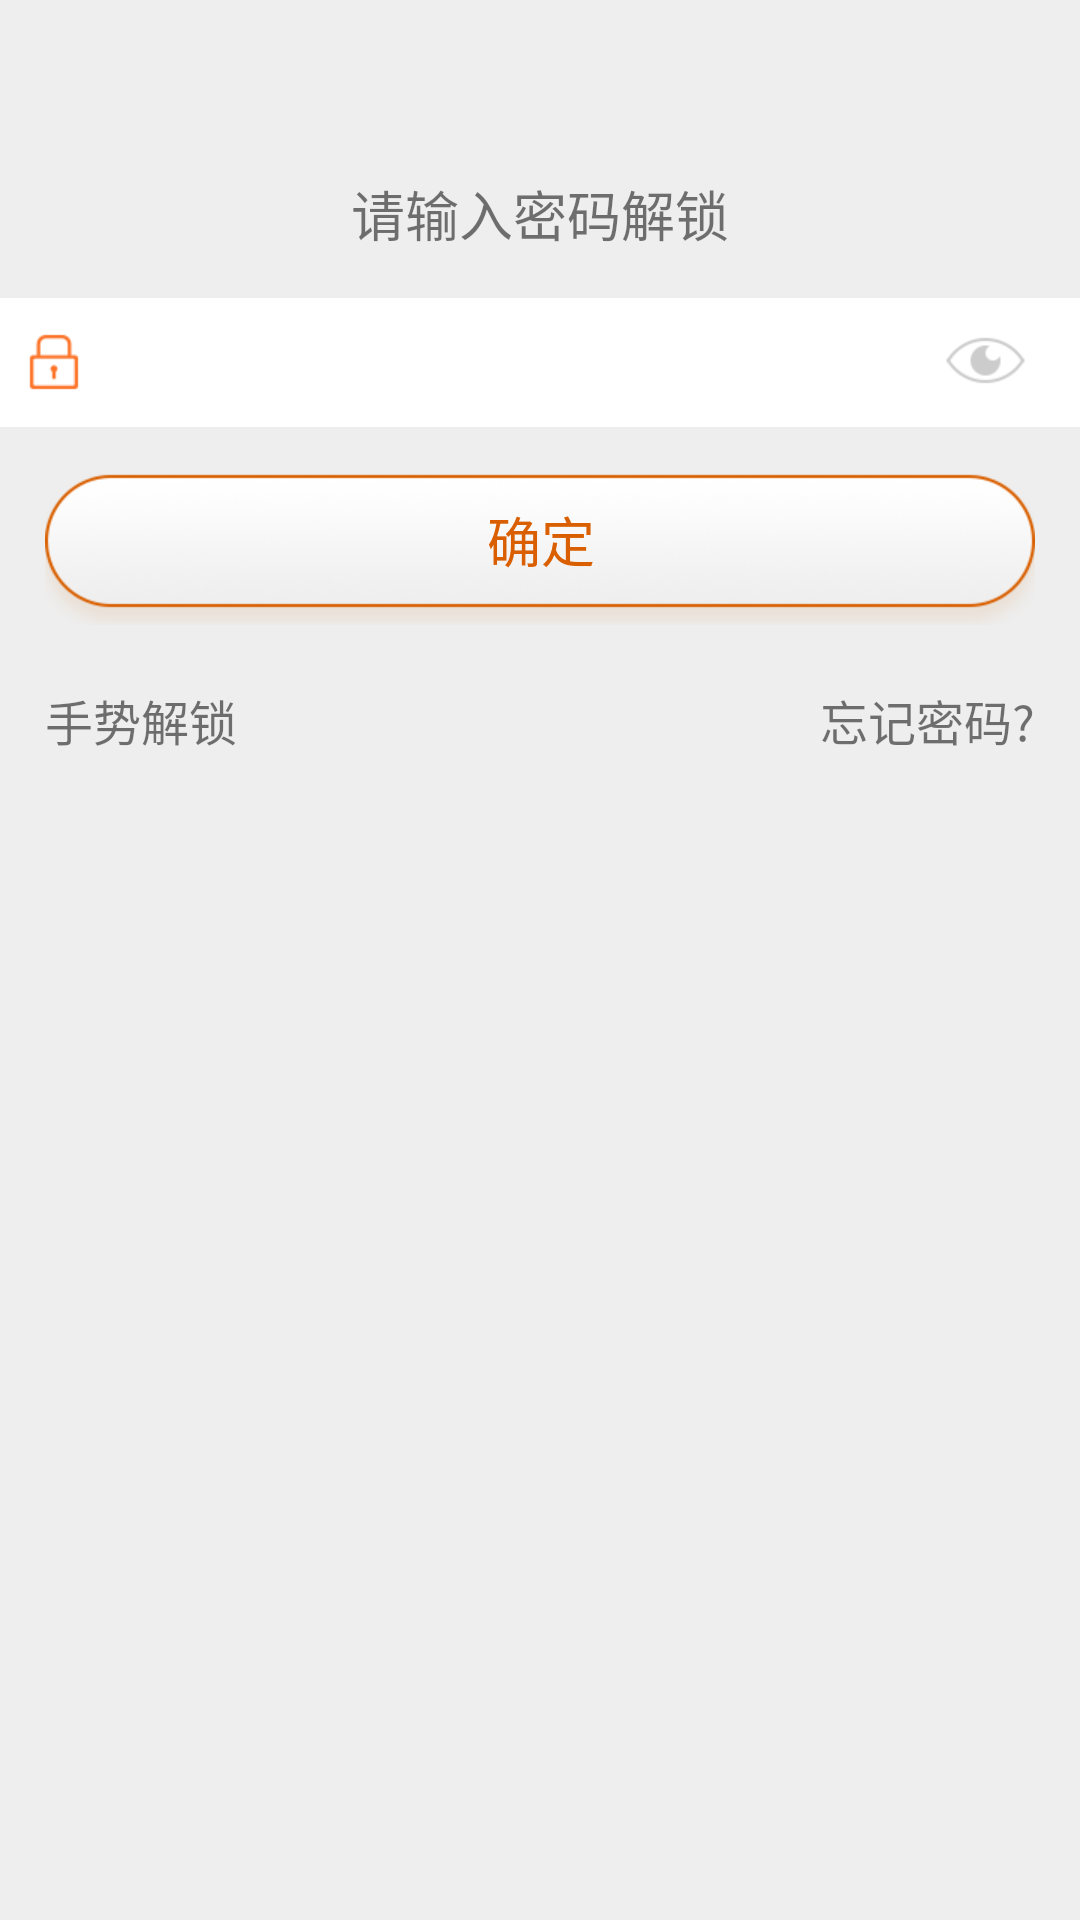

Point at icon controls on the screen. Image size 1080 × 1920, points as [x,y].
password off: [985,360]
